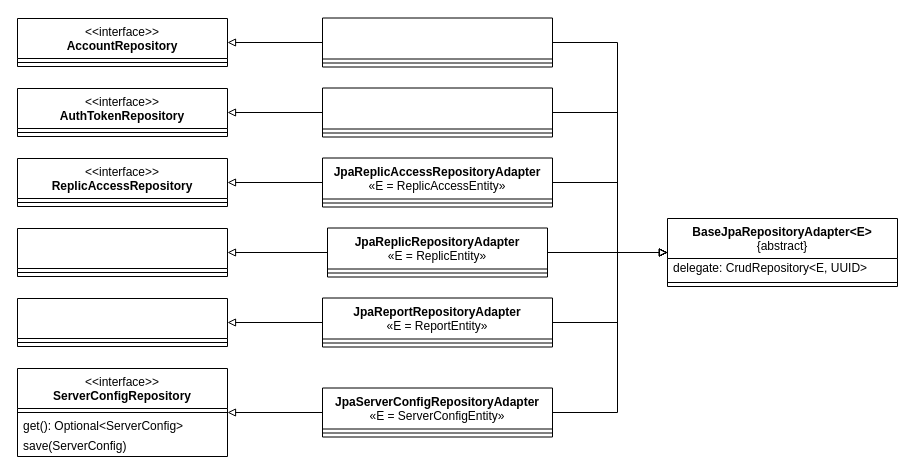
Image size: 915x474. Some labels were removed from this diagram. Here are the shapes that lost their labels. From the top down, the centre of each, then its label:
(437,42): JpaAccountRepositoryAdapter «E = AccountEntity»
(437,112): JpaAuthTokenRepositoryAdapter «E = AuthTokenEntity»
(122,252): <<interface>> ReplicRepository
(122,322): <<interface>> ReportRepository
